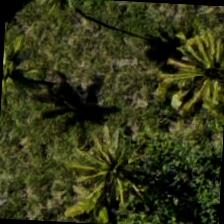Kelapa_Sawit: (76, 132, 172, 223), (155, 38, 223, 132)
